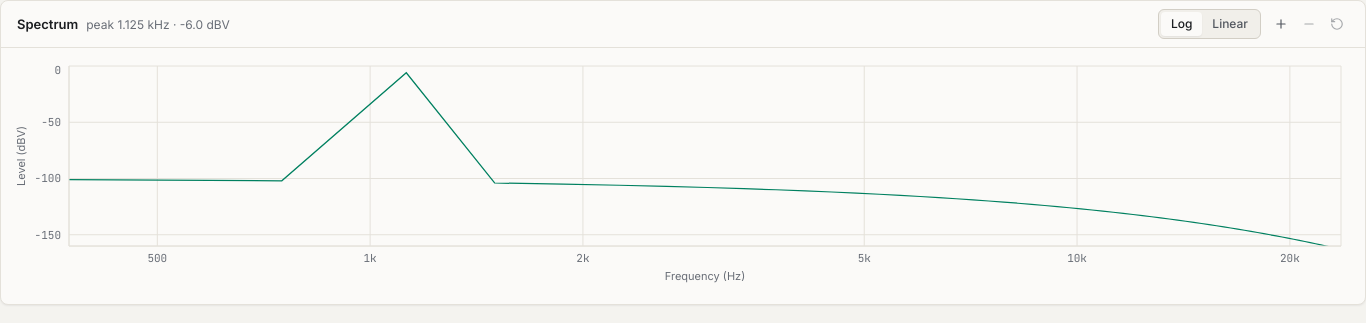
Test case: SpectrumChart › renders, reports the peak and drops the DC bin on the log axis
Expected: the element with class "recharts-line-curve" is shown, [69,73,1341,249]
Expected: the text "peak 1.125 kHz · -6.0 dBV" is shown, [86,17,230,33]
Click the radio button labelled "Linear": point(1230, 24) [1202,12,1258,36]
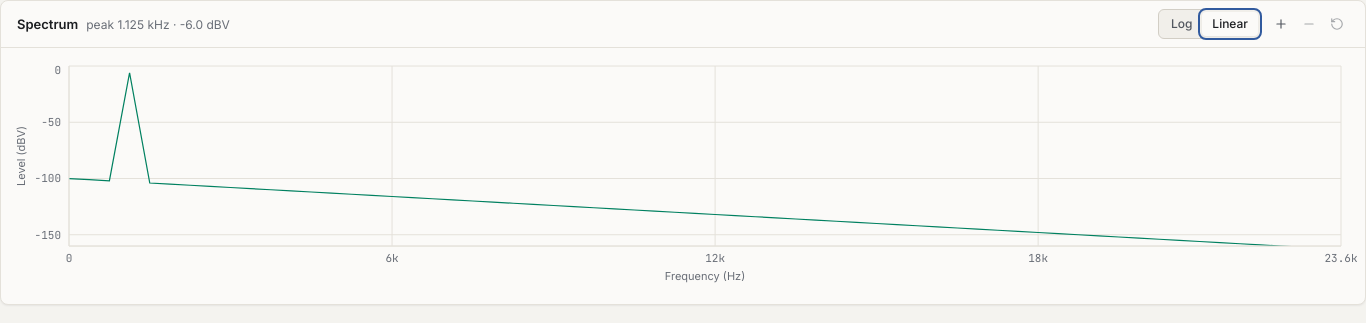
Expected: the element with class "recharts-line-curve" is shown, [69,73,1341,249]
Expected: the radio button labelled "Linear" is checked, [1202,12,1258,36]
